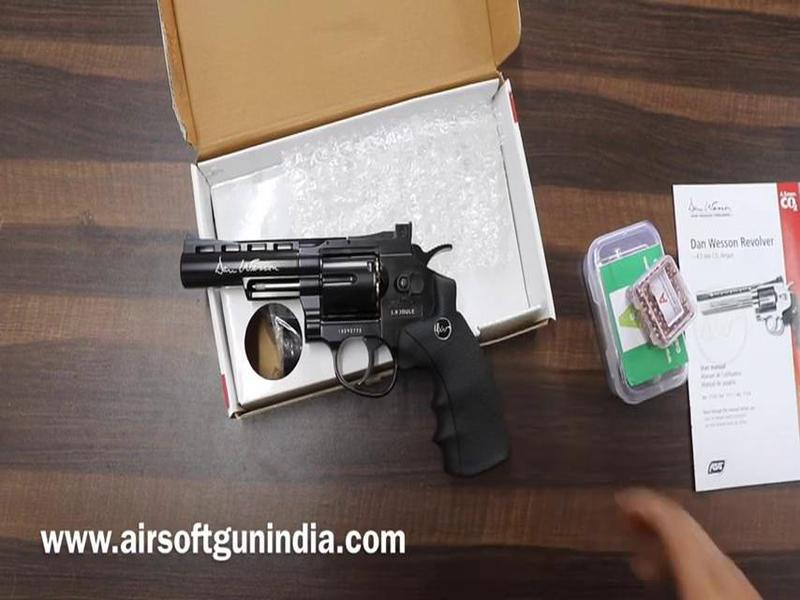Revolver: (178, 214, 528, 495)
